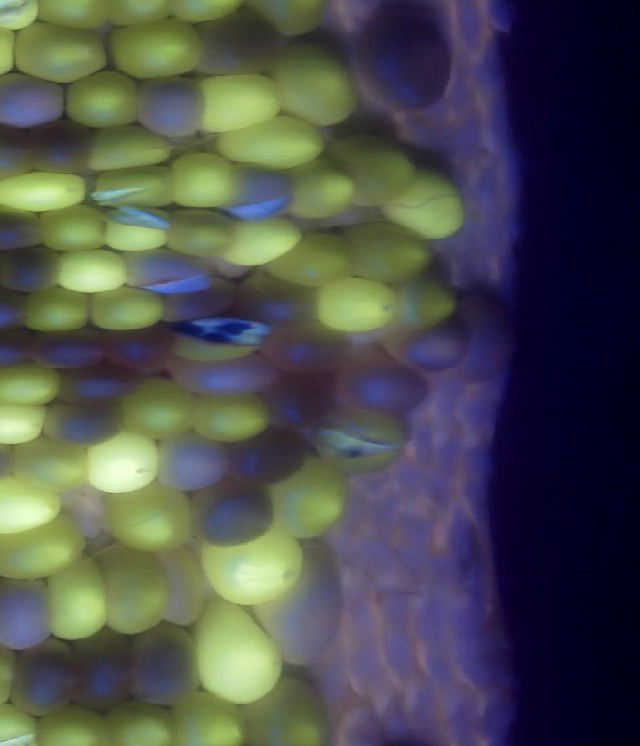fluorescent: (185, 595, 291, 710), (197, 528, 318, 606), (90, 535, 178, 641), (264, 41, 366, 131), (235, 670, 342, 746), (315, 401, 419, 479), (95, 479, 203, 553), (209, 109, 331, 173), (326, 128, 420, 211), (9, 15, 114, 89), (104, 14, 210, 86), (334, 219, 438, 288), (268, 452, 350, 539), (378, 160, 469, 237), (0, 512, 93, 586), (41, 552, 115, 644), (189, 68, 287, 136), (308, 271, 406, 338), (113, 372, 201, 444), (61, 64, 149, 129), (278, 155, 362, 223), (185, 385, 277, 446), (79, 431, 164, 497), (164, 686, 257, 746), (9, 430, 98, 492), (267, 231, 360, 290), (219, 210, 310, 270), (151, 204, 246, 261), (159, 147, 241, 210), (85, 120, 178, 175), (0, 166, 98, 217), (386, 272, 463, 335), (87, 279, 169, 335), (94, 161, 181, 212), (15, 283, 98, 336), (99, 695, 184, 746), (0, 474, 68, 537), (37, 202, 116, 256), (100, 203, 178, 256), (29, 701, 118, 746), (0, 358, 68, 412), (0, 395, 49, 448), (0, 697, 46, 746)
nonfluorescent: (254, 538, 350, 679), (362, 1, 459, 116), (124, 619, 211, 714), (186, 476, 286, 552), (0, 634, 82, 724), (192, 7, 287, 84), (332, 351, 435, 419), (253, 316, 362, 377), (455, 288, 520, 390), (221, 425, 317, 493), (259, 367, 343, 442), (67, 625, 136, 716), (384, 313, 475, 377), (167, 349, 281, 400), (215, 156, 298, 226), (132, 71, 210, 145), (155, 429, 238, 497), (20, 116, 101, 184), (114, 244, 216, 298), (231, 268, 315, 329), (0, 66, 75, 132), (153, 275, 246, 327), (152, 546, 210, 628), (39, 399, 129, 451), (0, 574, 61, 649), (99, 321, 184, 374), (54, 361, 147, 407), (31, 324, 112, 374), (0, 243, 63, 294), (0, 199, 47, 255), (0, 118, 39, 184), (0, 325, 39, 373), (0, 283, 33, 333)
